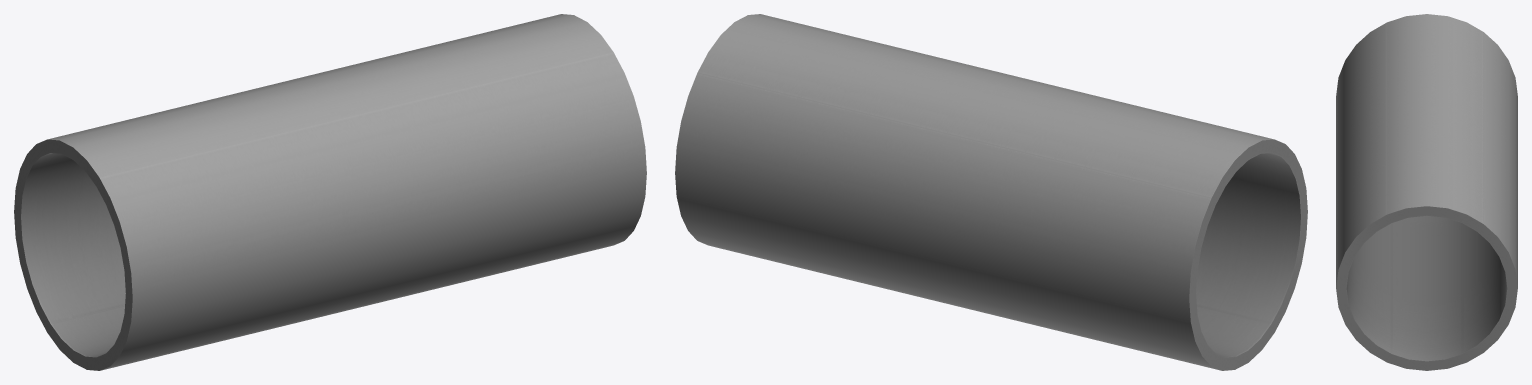
File: guanzi3.obj
3 renders of one model, left to right at view 1: azimuth 30°, elevation 25°; view 2: azimuth 150°, elevation 25°; view 3: azimuth 270°, elevation 25°, orthographic. The views are drawn at different scales.
Parts seen in each view (by area): view 1: Circle01; view 2: Circle01; view 3: Circle01.
Boxes of the visible parts, x1,y1,x2,y2 form: Circle01: [14, 14, 646, 370]; Circle01: [675, 14, 1307, 370]; Circle01: [1336, 14, 1517, 370].
Bounding box in the file's own units: 114 × 45.64 × 45.64.
